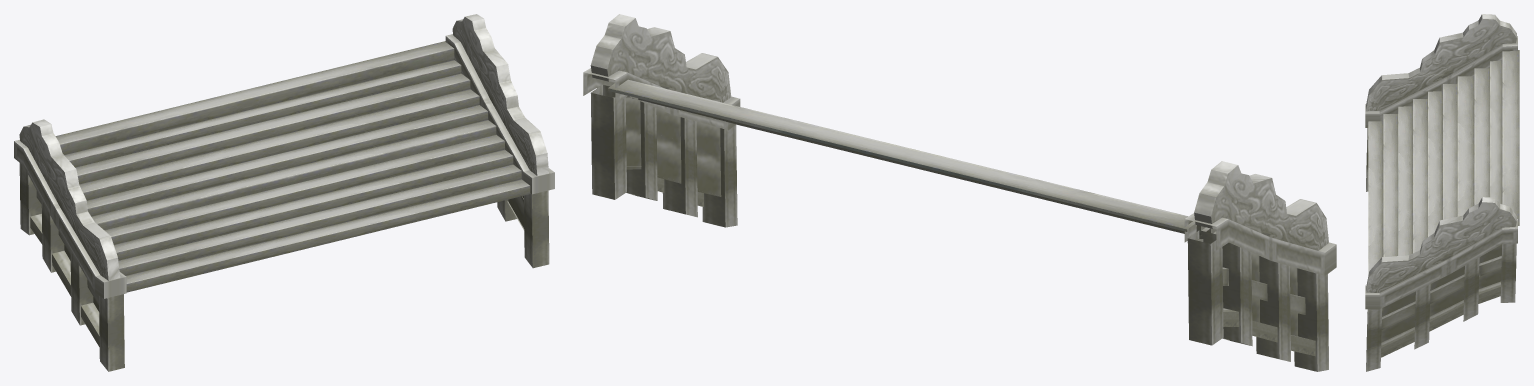
File: W3_HD_GongHuiBoss_louti_01_03_D.FBX
The picture shows the model from 3 angles, left to right: view 1: azimuth 30°, elevation 25°; view 2: azimuth 150°, elevation 25°; view 3: azimuth 270°, elevation 25°; orthographic projection. The views are drawn at different scales.
Visible parts, largest first — view 1: W3_HD_GongHuiBoss_louti_01_03_D; view 2: W3_HD_GongHuiBoss_louti_01_03_D; view 3: W3_HD_GongHuiBoss_louti_01_03_D.
Boxes of the visible parts, left/top/right/bottom form: W3_HD_GongHuiBoss_louti_01_03_D: left=14, top=14, right=554, bottom=371; W3_HD_GongHuiBoss_louti_01_03_D: left=583, top=14, right=1336, bottom=371; W3_HD_GongHuiBoss_louti_01_03_D: left=1365, top=14, right=1519, bottom=371.
Size of the model in its own units: 15.46 by 6.39 by 5.24.
